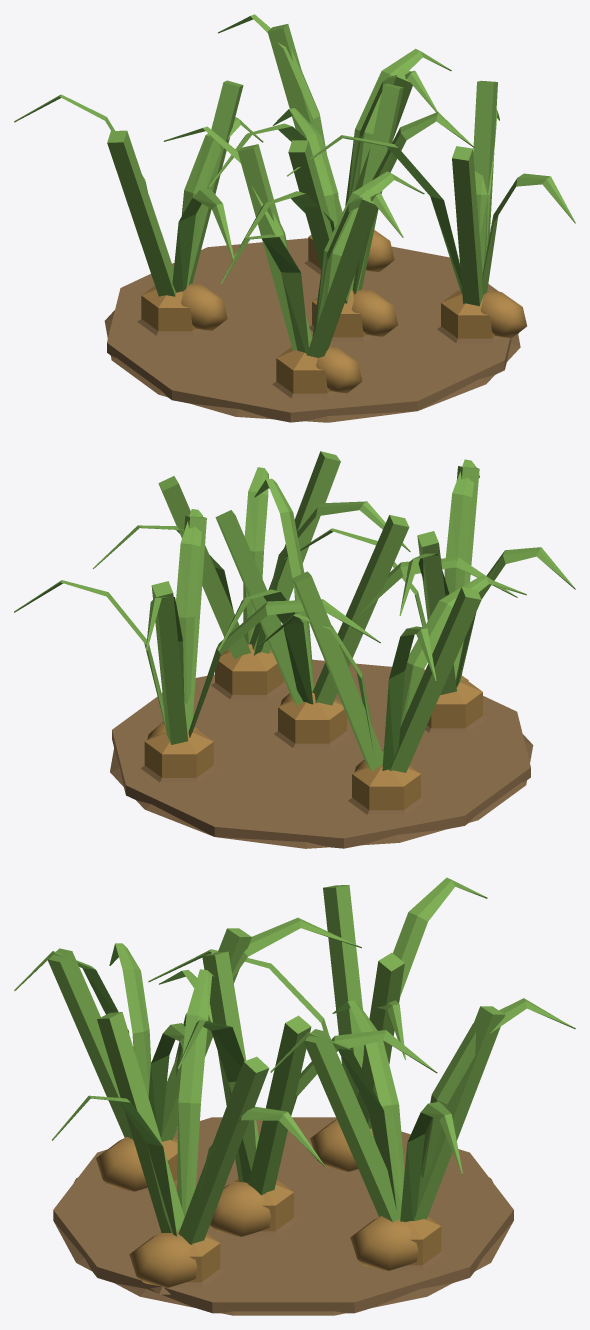
The model's file is wheat_forest_sprout.glb.
3 views of the same model, one above another, from view 1: azimuth 30°, elevation 25°; view 2: azimuth 150°, elevation 25°; view 3: azimuth 270°, elevation 25° (orthographic). The views are drawn at different scales.
Parts seen in each view (by area): view 1: body__far, body_nl, body; view 2: body__far, body_nl, body; view 3: body__far, body_nl, body.
Part boxes in pixels (x1,y1,x2,y2): body__far: (107, 24, 511, 422); body_nl: (14, 14, 575, 353); body: (104, 230, 526, 422); body__far: (112, 451, 530, 848); body_nl: (14, 459, 575, 770); body: (110, 644, 533, 848); body__far: (47, 885, 513, 1313); body_nl: (14, 877, 575, 1236); body: (54, 1119, 512, 1315).
Bounding box in the file's own units: 4.03 × 2.1 × 4.2.
